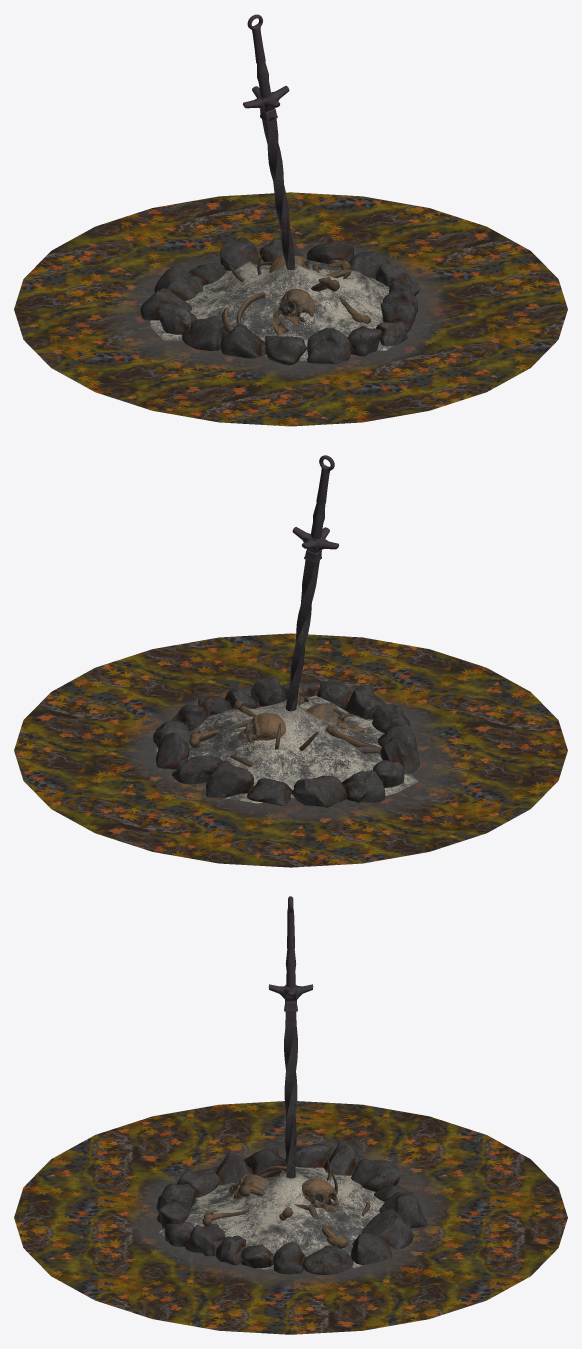
The model's file is bonefire.obj.
The picture shows the model from 3 angles, top to bottom: view 1: azimuth 30°, elevation 25°; view 2: azimuth 150°, elevation 25°; view 3: azimuth 270°, elevation 25°; orthographic projection.
Parts seen in each view (by area): view 1: defaultMaterial.004, defaultMaterial.003, defaultMaterial.006, defaultMaterial.005, defaultMaterial.002, defaultMaterial.001, defaultMaterial; view 2: defaultMaterial.004, defaultMaterial.003, defaultMaterial.006, defaultMaterial.005, defaultMaterial, defaultMaterial.002, defaultMaterial.001; view 3: defaultMaterial.004, defaultMaterial.003, defaultMaterial.006, defaultMaterial.005, defaultMaterial.001, defaultMaterial.002, defaultMaterial.
Boxes of the visible parts, left/top/right/bottom form: defaultMaterial.004: left=14, top=192, right=567, bottom=426; defaultMaterial.003: left=140, top=237, right=420, bottom=364; defaultMaterial.006: left=150, top=260, right=393, bottom=360; defaultMaterial.005: left=262, top=118, right=295, bottom=269; defaultMaterial.002: left=243, top=14, right=289, bottom=121; defaultMaterial.001: left=222, top=254, right=370, bottom=333; defaultMaterial: left=269, top=255, right=315, bottom=335; defaultMaterial.004: left=14, top=633, right=567, bottom=867; defaultMaterial.003: left=153, top=677, right=419, bottom=807; defaultMaterial.006: left=155, top=695, right=418, bottom=803; defaultMaterial.005: left=285, top=559, right=319, bottom=711; defaultMaterial: left=238, top=703, right=364, bottom=742; defaultMaterial.002: left=292, top=455, right=338, bottom=562; defaultMaterial.001: left=189, top=686, right=381, bottom=766; defaultMaterial.004: left=14, top=1101, right=567, bottom=1334; defaultMaterial.003: left=156, top=1140, right=427, bottom=1274; defaultMaterial.006: left=159, top=1158, right=384, bottom=1269; defaultMaterial.005: left=284, top=1011, right=297, bottom=1178; defaultMaterial.001: left=202, top=1154, right=370, bottom=1248; defaultMaterial.002: left=268, top=896, right=313, bottom=1011; defaultMaterial: left=228, top=1173, right=339, bottom=1211.
Size of the model in its own units: 0.1864 by 0.1221 by 0.1864.
7 materials, 7 textured.
